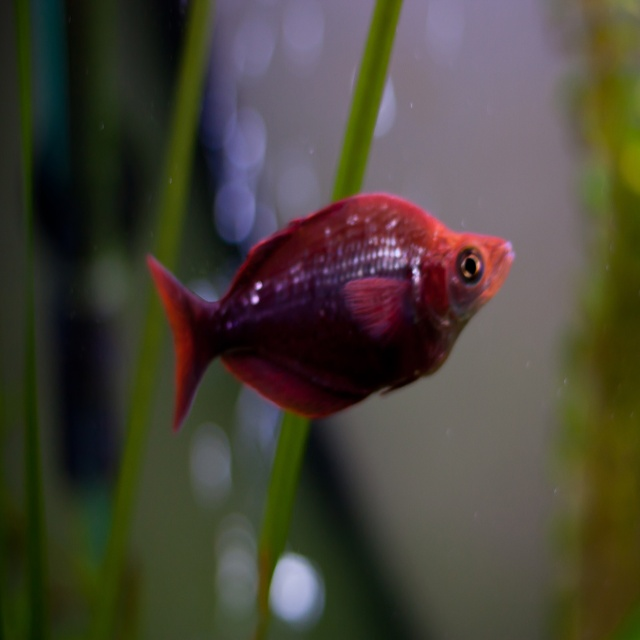Fish: (150, 192, 516, 437)
